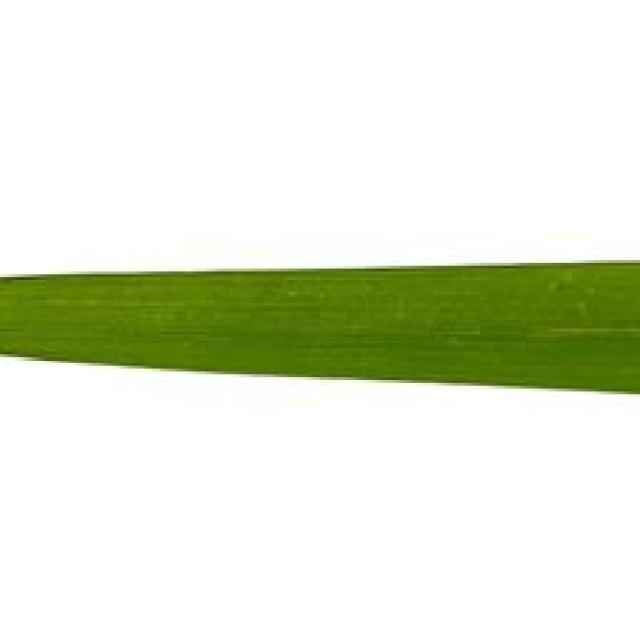Rice___Healthy_Rice_Plant: (0, 259, 637, 397)
